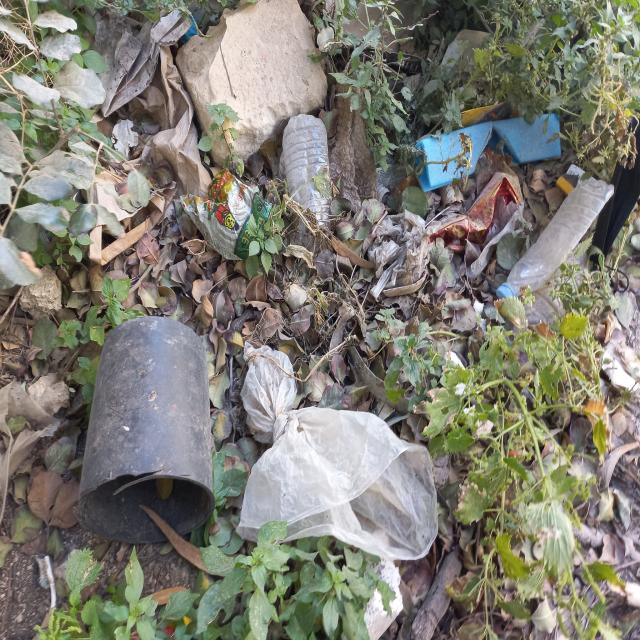Bottle: (496, 175, 615, 300), (510, 243, 593, 336), (283, 114, 332, 241)
Carton: (77, 2, 220, 265)
Other litter: (587, 108, 640, 294)
Other plastic: (74, 314, 216, 549), (433, 147, 527, 280), (0, 380, 62, 529), (328, 64, 379, 206), (555, 163, 590, 197)
Plastic bag - wrapper: (233, 341, 442, 559), (178, 167, 273, 261), (450, 99, 520, 131), (376, 160, 408, 207)
